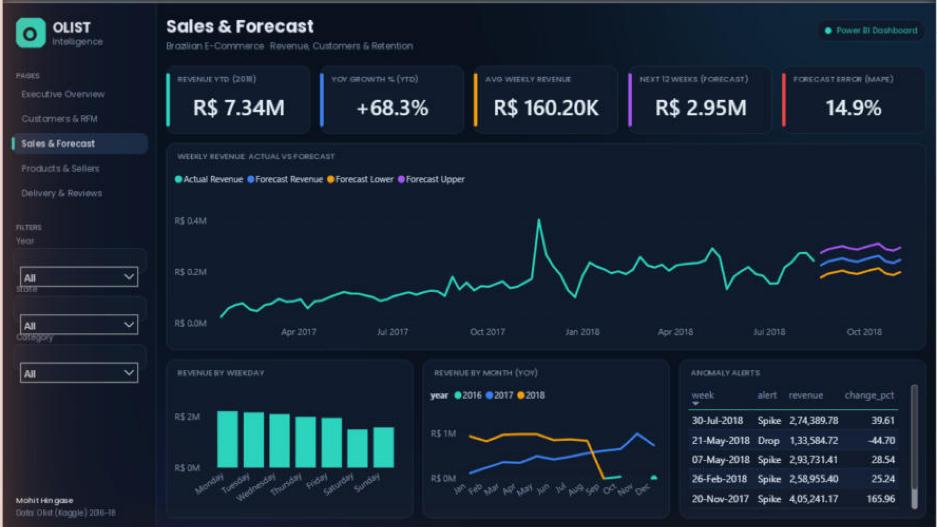

What the dashboard file says about the page in this screenshot:
{"tool":"powerbi","page":{"name":"Sales & Forecast","canvas":[1280,720],"ordinal":2},"visuals":[{"type":"card","fields":{"Values":["fact_orders.Revenue YTD"]},"box":[234,112,179,62],"z":1000},{"type":"card","fields":{"Values":["fact_orders.YoY Growth %"]},"box":[445,112,179,62],"z":1000},{"type":"card","fields":{"Values":["forecast_chart.Avg Weekly Revenue"]},"box":[656,112,179,62],"z":1000},{"type":"card","fields":{"Values":["forecast_chart.Forecast Next 12W"]},"box":[868,112,179,62],"z":1000},{"type":"card","fields":{"Values":["fact_orders.Forecast MAPE"]},"box":[1079,112,179,62],"z":1000},{"type":"lineChart","fields":{"Category":["forecast_chart.week"],"Y":["forecast_chart.Actual Revenue","forecast_chart.Forecast Revenue","forecast_chart.Forecast Lower","forecast_chart.Forecast Upper"]},"box":[230,222,1030,247],"z":1000},{"type":"columnChart","fields":{"Category":["dim_date.day_name"],"Y":["fact_orders.Revenue"]},"box":[230,519,326,181],"z":1000},{"type":"lineChart","fields":{"Category":["dim_date.month_name"],"Series":["dim_date.year"],"Y":["fact_orders.Revenue"]},"box":[582,519,326,181],"z":1000},{"type":"tableEx","fields":{"Values":["agg_revenue_anomalies.week","agg_revenue_anomalies.alert","agg_revenue_anomalies.revenue","agg_revenue_anomalies.change_pct"]},"box":[934,519,326,181],"z":1000},{"type":"slicer","fields":{"Values":["dim_date.year"]},"box":[14,351,182,40],"z":3000},{"type":"slicer","fields":{"Values":["dim_customer.state"]},"box":[14,417,182,40],"z":3000},{"type":"slicer","fields":{"Values":["dim_product.category"]},"box":[14,483,182,40],"z":3000},{"type":"actionButton","box":[12,110,186,28],"z":4000},{"type":"actionButton","box":[12,144,186,28],"z":4001},{"type":"actionButton","box":[12,212,186,28],"z":4003},{"type":"actionButton","box":[12,246,186,28],"z":4004}]}

Visuals, with their boxes on the page's 1280x720 design canvas (x1, y1, x2, y2). These are canvas units, not pixel positions in the 937x527 screenshot, which may show the page scaled, cropped or inside an application window:
card - fact_orders.Revenue YTD: BBox(234, 112, 413, 174)
card - fact_orders.YoY Growth %: BBox(445, 112, 624, 174)
card - forecast_chart.Avg Weekly Revenue: BBox(656, 112, 835, 174)
card - forecast_chart.Forecast Next 12W: BBox(868, 112, 1047, 174)
card - fact_orders.Forecast MAPE: BBox(1079, 112, 1258, 174)
lineChart - forecast_chart.week x forecast_chart.Actual Revenue: BBox(230, 222, 1260, 469)
columnChart - dim_date.day_name x fact_orders.Revenue: BBox(230, 519, 556, 700)
lineChart - dim_date.month_name x dim_date.year: BBox(582, 519, 908, 700)
tableEx - agg_revenue_anomalies.week x agg_revenue_anomalies.alert: BBox(934, 519, 1260, 700)
slicer - dim_date.year: BBox(14, 351, 196, 391)
slicer - dim_customer.state: BBox(14, 417, 196, 457)
slicer - dim_product.category: BBox(14, 483, 196, 523)
actionButton: BBox(12, 110, 198, 138)
actionButton: BBox(12, 144, 198, 172)
actionButton: BBox(12, 212, 198, 240)
actionButton: BBox(12, 246, 198, 274)
